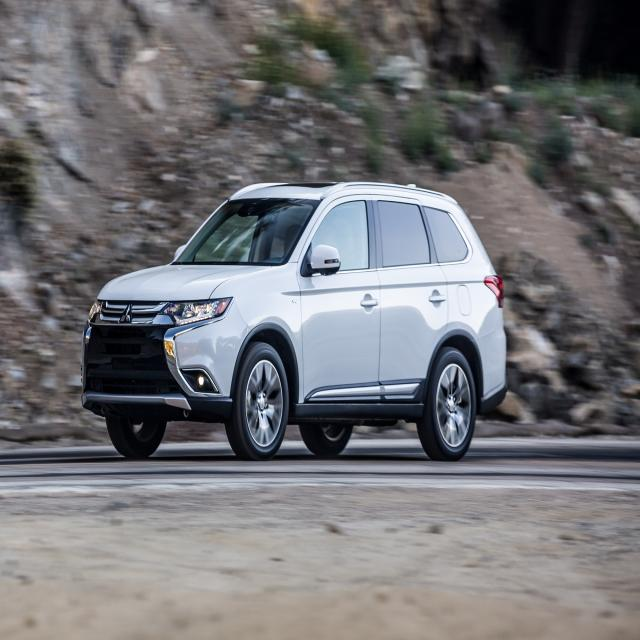light_vehicle: (80, 180, 509, 463)
